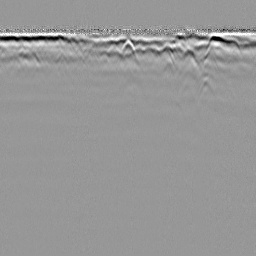cavity: (119, 38, 136, 55)
